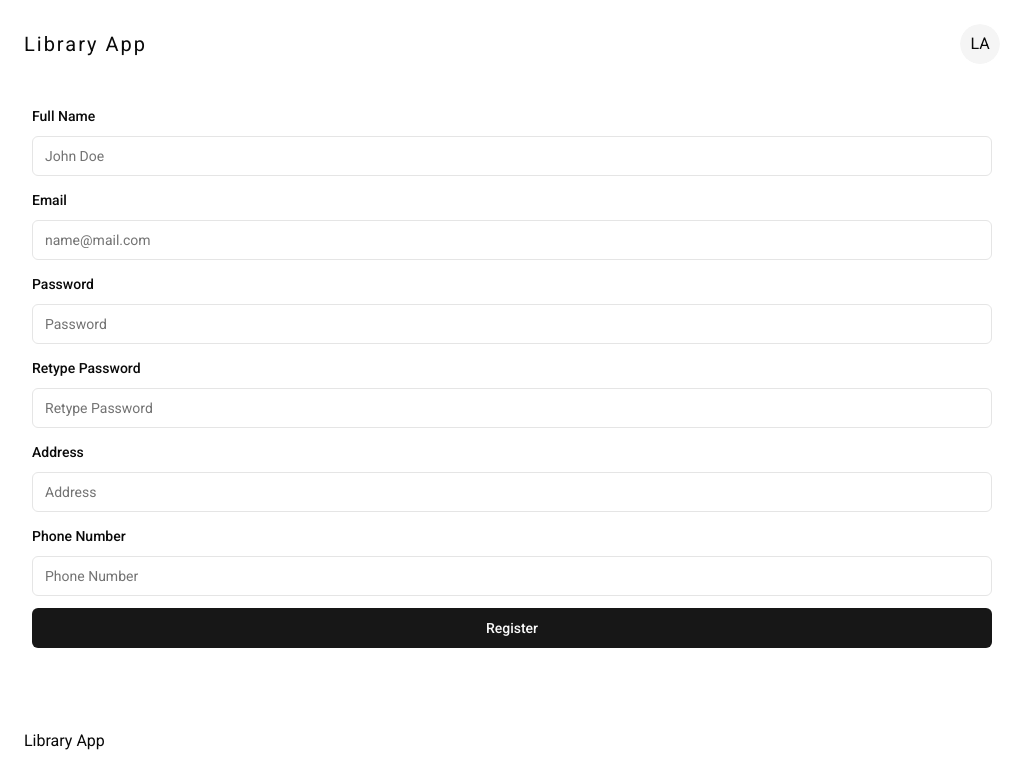
Register Page › Action for Register › should show error message when some of input is missing a value
The width and height of the screenshot is (1024, 768).
Click the button with aria-label "btn-submit": (512, 628) [32,608,992,648]
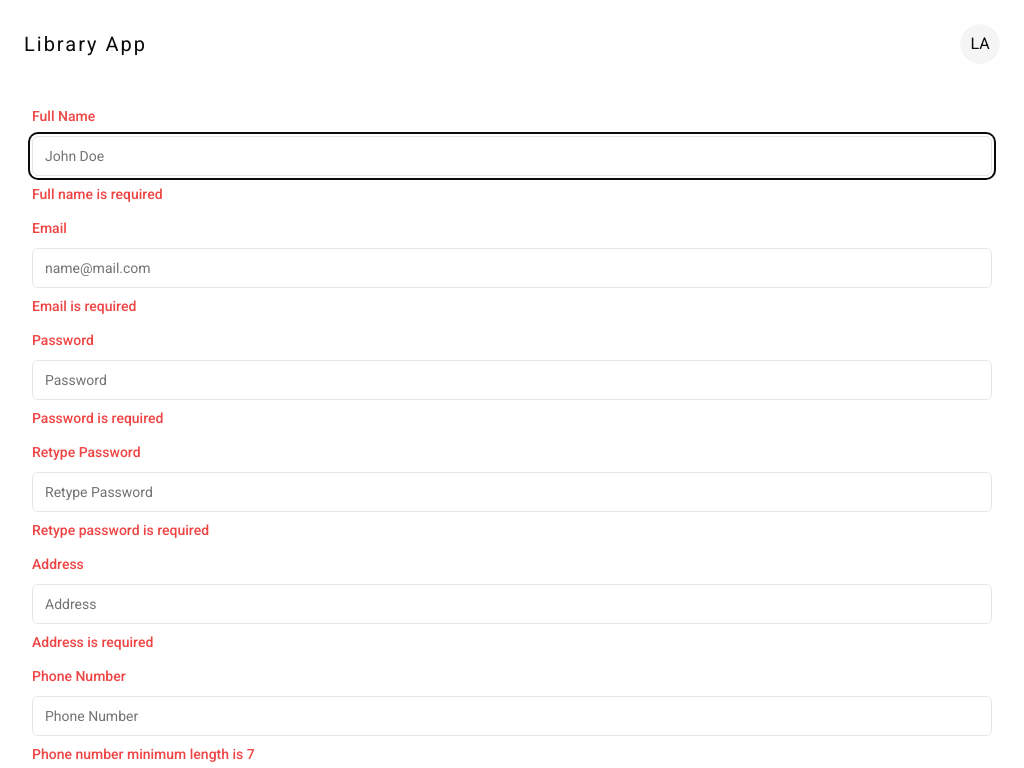
Check: the text "Full name is required" is shown, box [32,186,162,202]
Check: the text "Email is required" is shown, box [32,298,136,314]
Check: the text "Password is required" is shown, box [32,410,163,426]
